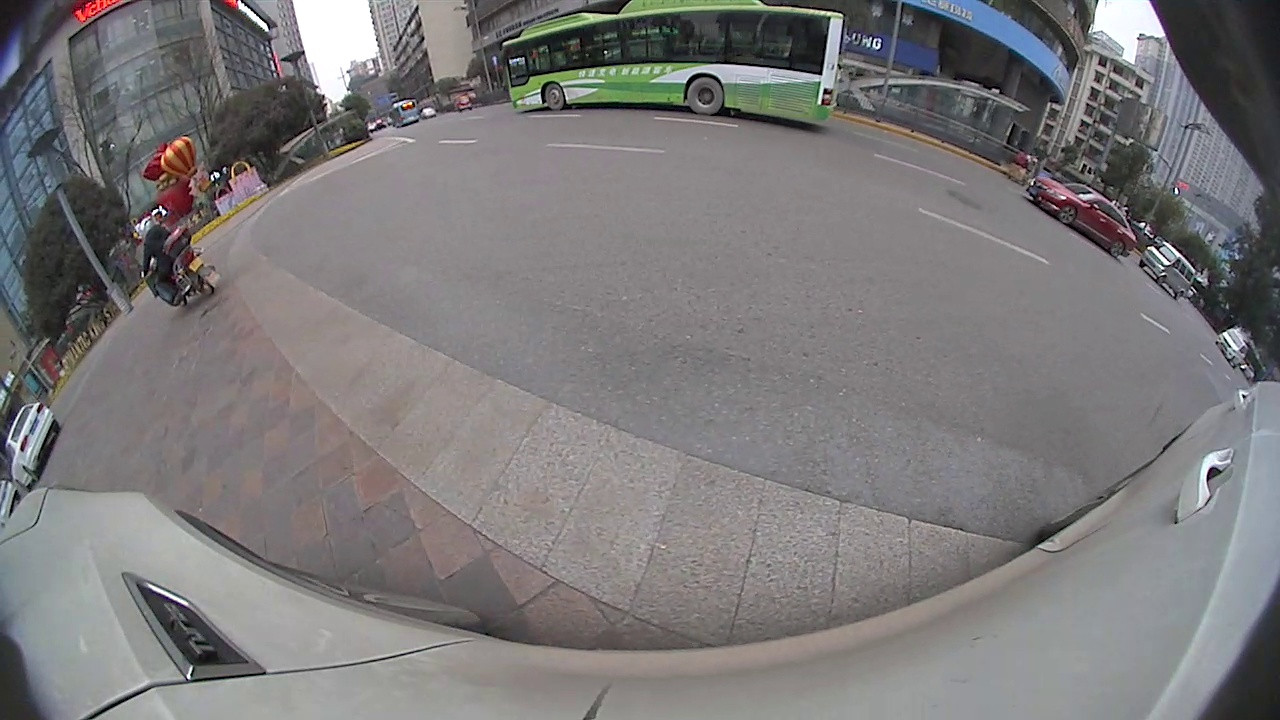bus: (505, 4, 846, 130)
car: (1029, 177, 1133, 258), (4, 399, 60, 487), (1141, 243, 1197, 301), (1215, 330, 1247, 369)
front: (541, 81, 566, 112), (1057, 200, 1081, 226)
rear: (686, 77, 723, 115), (1107, 236, 1127, 260)
rider: (139, 216, 220, 304)
